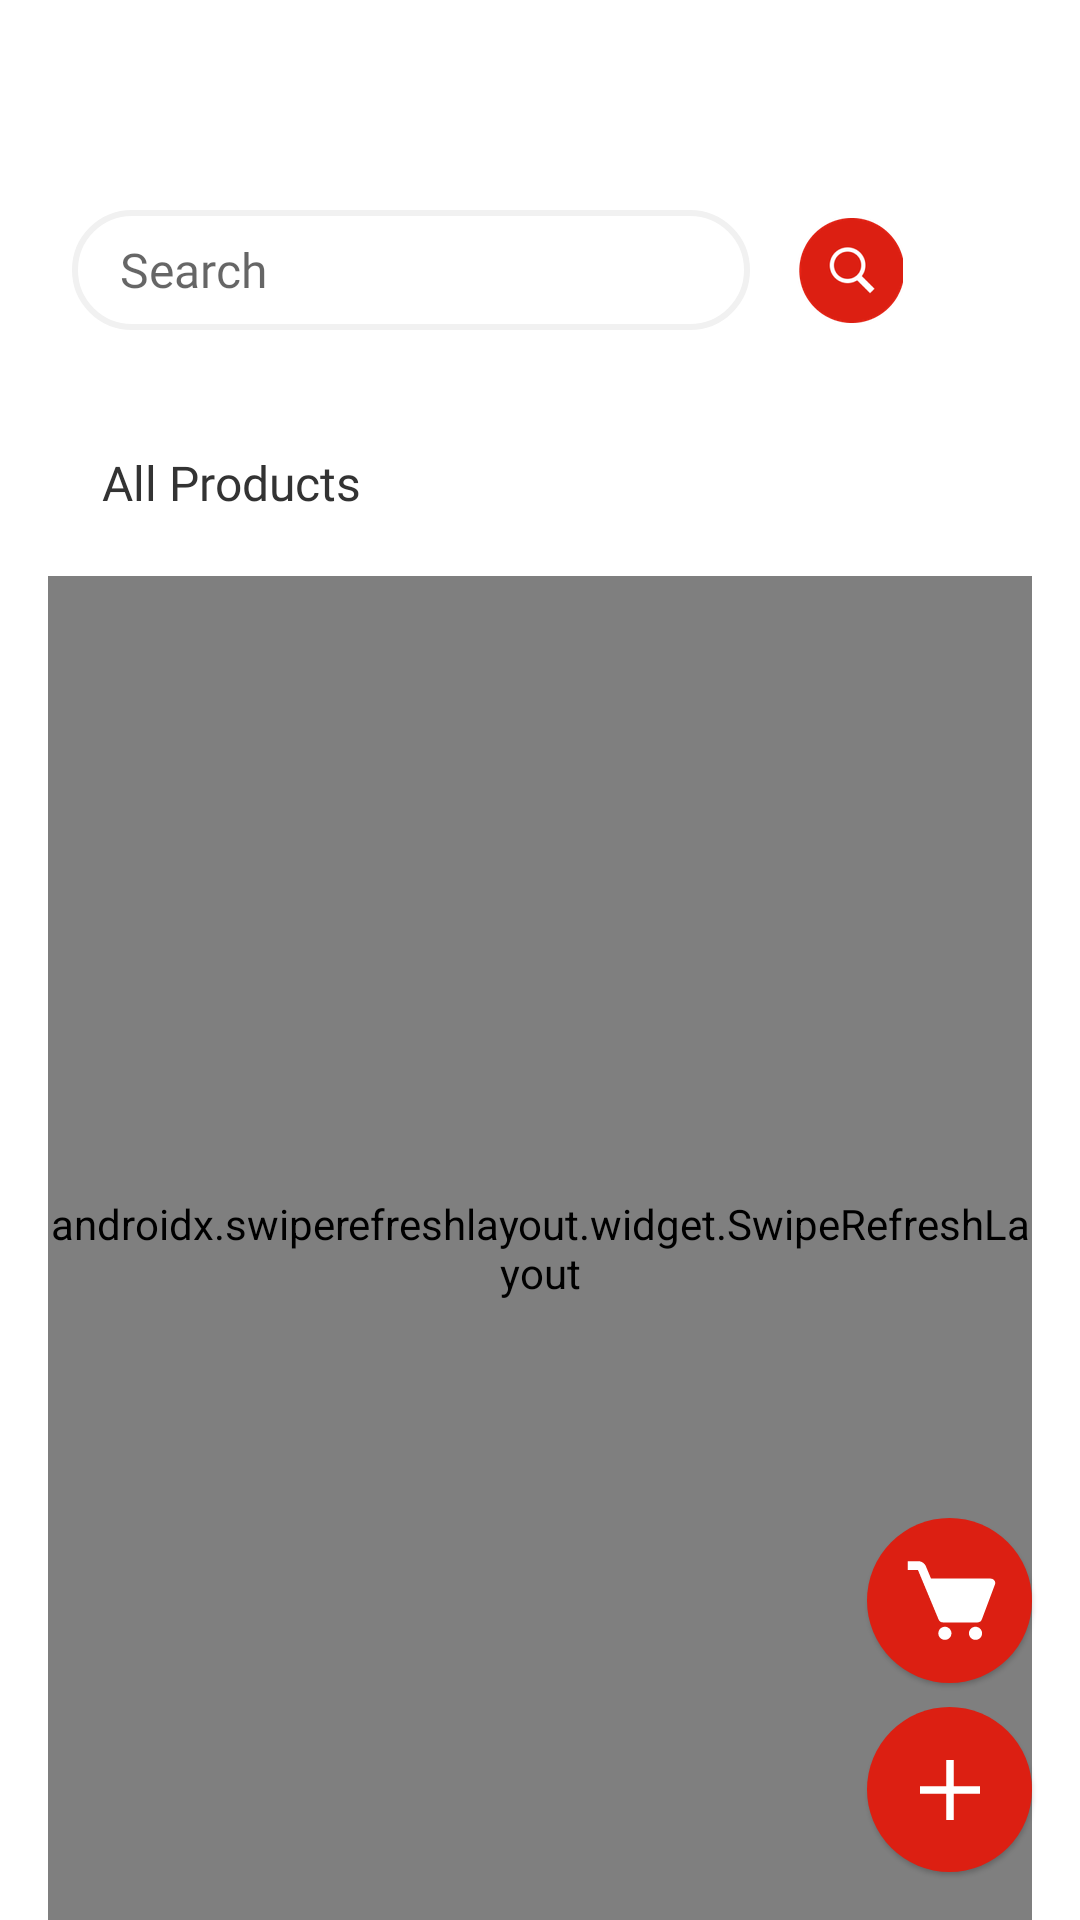

Icons on this 1080*1920 Android screen, each with the point to tap as (x=x, y=y):
add: (x=949, y=1789)
cart: (x=949, y=1600)
